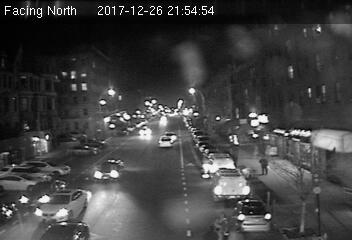car: (37, 187, 90, 224), (232, 199, 274, 234), (17, 179, 65, 208), (94, 158, 124, 181), (158, 136, 174, 149)
truck: (210, 169, 251, 202), (207, 152, 235, 171)
